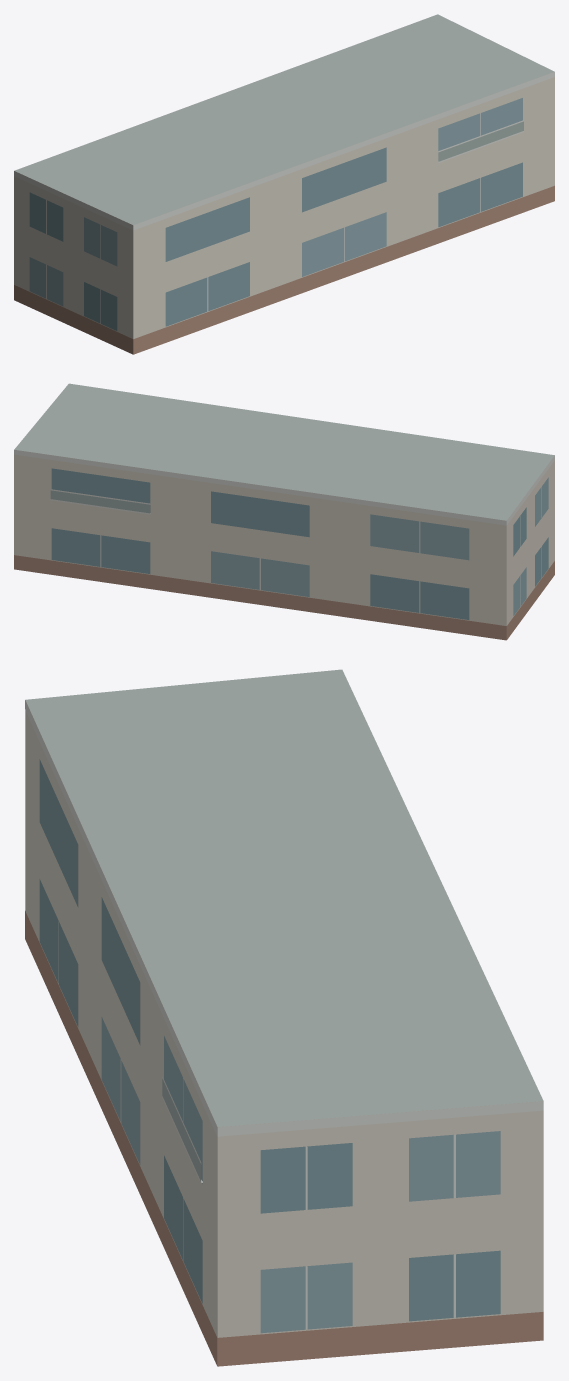
File: survey-upis-32607544.glb
The picture shows the model from 3 angles, top to bottom: view 1: azimuth 30°, elevation 25°; view 2: azimuth 150°, elevation 25°; view 3: azimuth 270°, elevation 25°; orthographic projection. The views are drawn at different scales.
Parts seen in each view (by area): view 1: survey-upis-32607544.tmp; view 2: survey-upis-32607544.tmp; view 3: survey-upis-32607544.tmp.
Part boxes in pixels (x1=…): survey-upis-32607544.tmp: x1=14, y1=14, x2=554, y2=354; survey-upis-32607544.tmp: x1=14, y1=383, x2=554, y2=640; survey-upis-32607544.tmp: x1=25, y1=669, x2=543, y2=1366.
Size of the model in its own units: 25.03 by 6.1 by 11.99.
